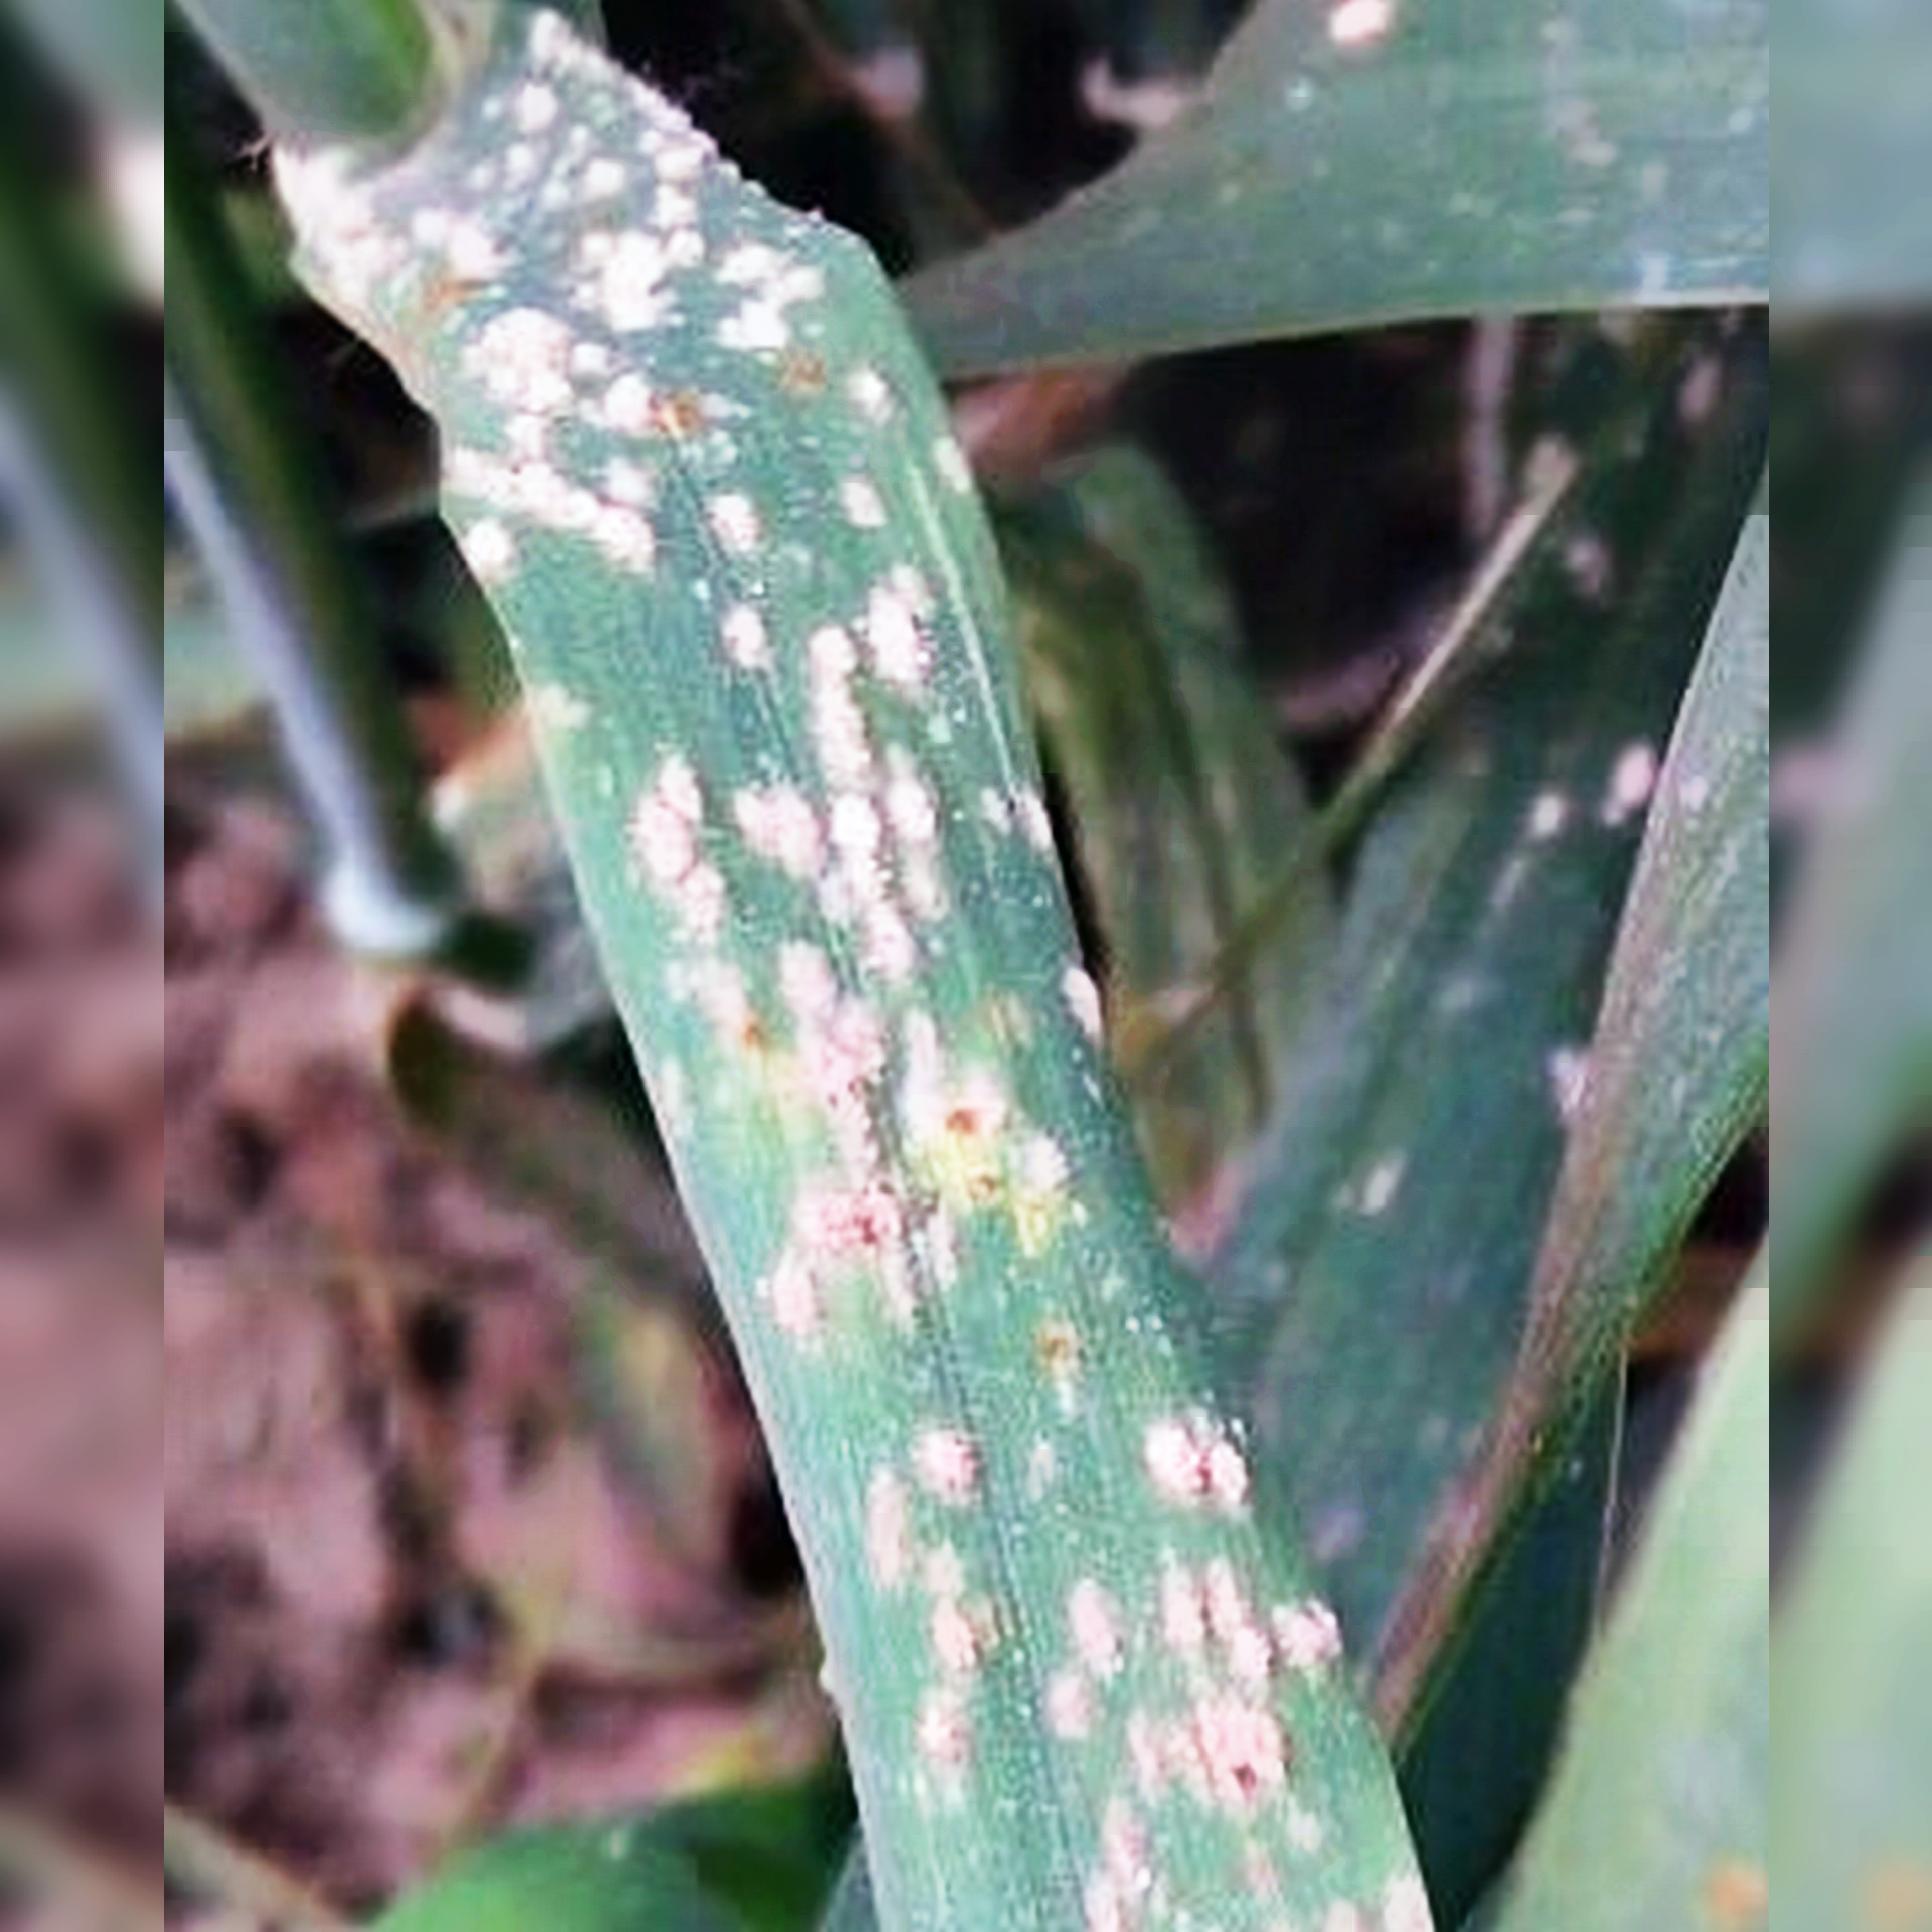Powdery Mildew: (517, 370, 1371, 1799)
